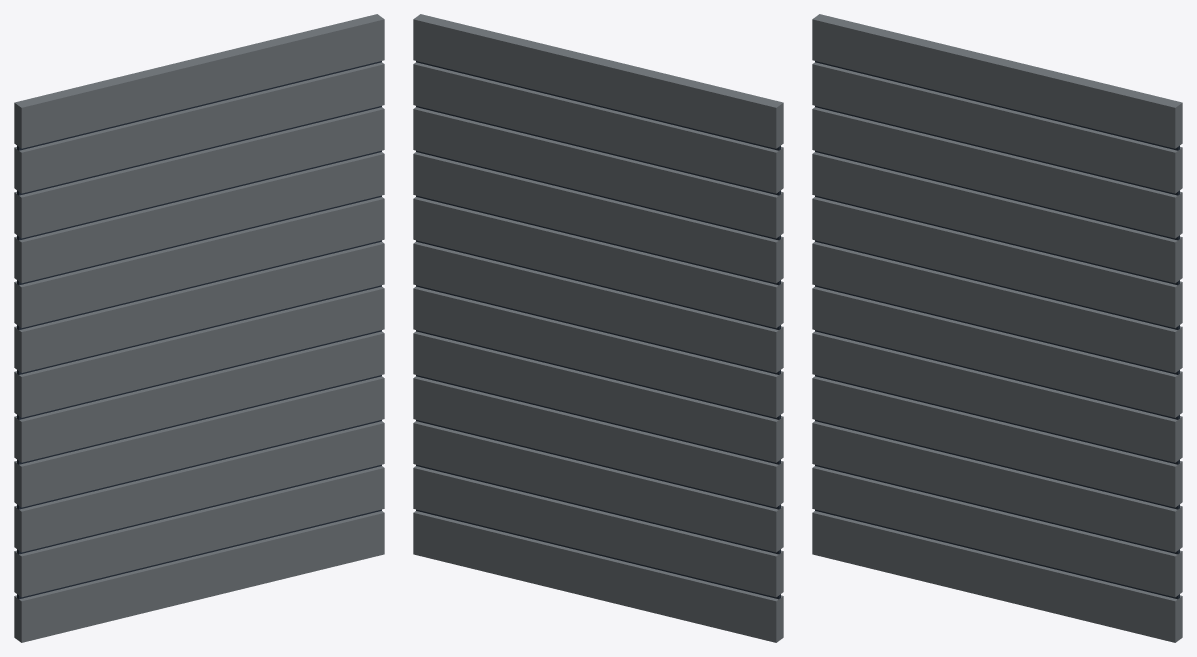
The model's file is SM_Buildings_Factory_02_Gate.fbx.
3 views of the same model, side by side, from view 1: azimuth 30°, elevation 25°; view 2: azimuth 150°, elevation 25°; view 3: azimuth 330°, elevation 25° (orthographic).
Visible parts, largest first — view 1: SM_Buildings_Factory_02_Gate; view 2: SM_Buildings_Factory_02_Gate; view 3: SM_Buildings_Factory_02_Gate.
Boxes of the visible parts, x1,y1,x2,y2 form: SM_Buildings_Factory_02_Gate: [14, 14, 384, 642]; SM_Buildings_Factory_02_Gate: [413, 14, 783, 642]; SM_Buildings_Factory_02_Gate: [812, 14, 1182, 642].
Bounding box in the file's own units: 2.9 × 4.09 × 0.1008.
